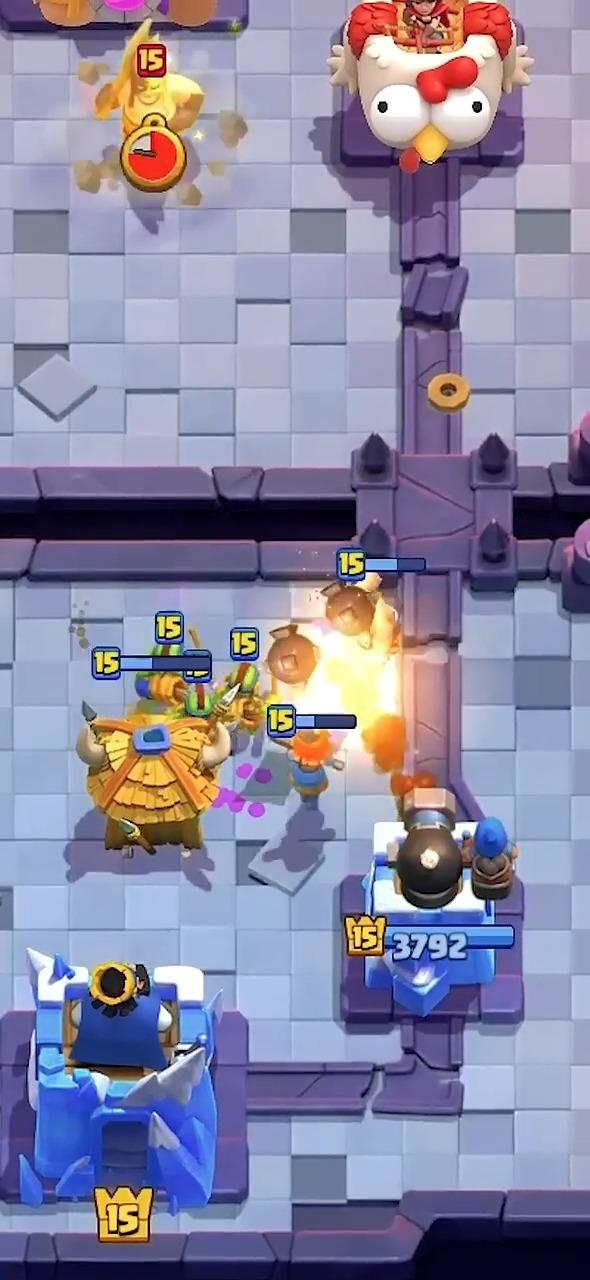executioner: (95, 20, 203, 136)
goblin hut: (77, 714, 230, 854)
spear goblin: (135, 664, 264, 732)
valkyrie: (287, 729, 332, 797)
